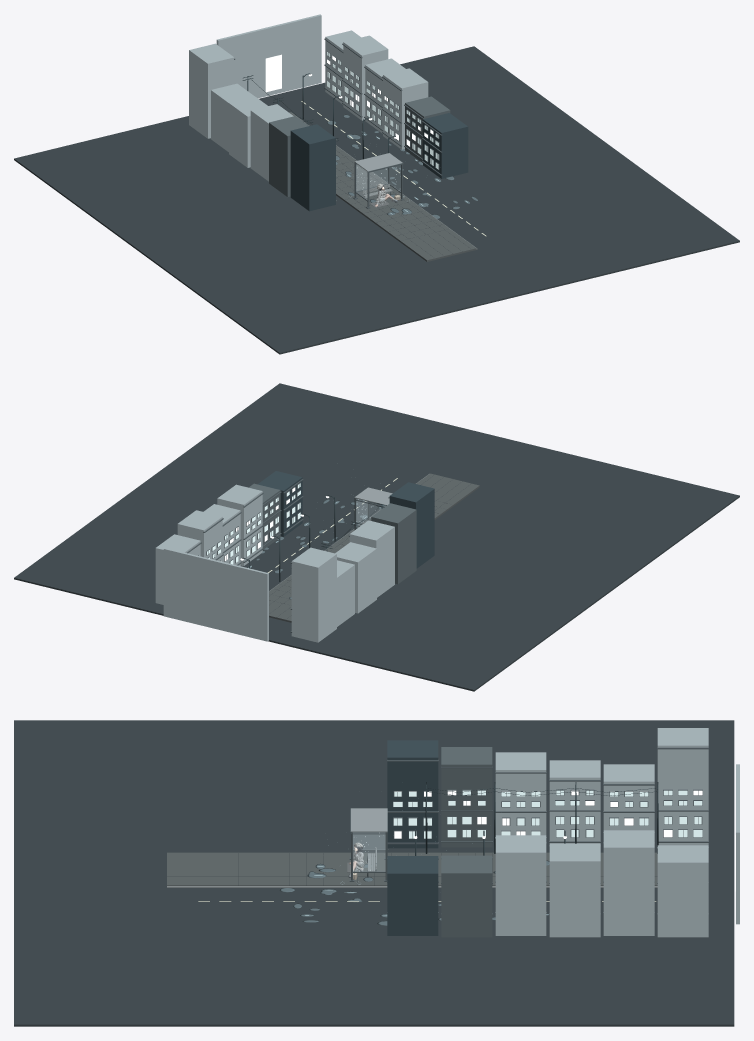
The picture shows the model from 3 angles, top to bottom: view 1: azimuth 30°, elevation 25°; view 2: azimuth 150°, elevation 25°; view 3: azimuth 270°, elevation 25°; orthographic projection. The views are drawn at different scales.
Parts seen in each view (by area): view 1: ground floor / asphalt, receding street facades / back building, receding street facades / shadow building, vanishing light across street / back building, sidewalk / concrete, receding street facades / silver building, window bays / arcade glass, Window jambs / weathered zinc, standing water / wet sheen, facade lintels / weathered zinc, distant doorway / far light, shelter side glazing / rain glass; view 2: ground floor / asphalt, receding street facades / back building, vanishing light across street / back building, receding street facades / shadow building, receding street facades / silver building, sidewalk / concrete, window bays / arcade glass, Window jambs / weathered zinc, facade lintels / weathered zinc; view 3: ground floor / asphalt, receding street facades / back building, receding street facades / shadow building, receding street facades / silver building, sidewalk / concrete, window bays / arcade glass, Window jambs / weathered zinc, facade lintels / weathered zinc, shelter side glazing / rain glass, folded shelter canopy / awning, standing water / wet sheen, window bays / far light (+2 smaller).
Boxes of the visible parts, x1,y1,x2,y2 form: ground floor / asphalt: (14, 46, 739, 354); receding street facades / back building: (189, 30, 428, 181); receding street facades / shadow building: (290, 113, 468, 211); vanishing light across street / back building: (216, 14, 321, 98); sidewalk / concrete: (289, 112, 476, 261); receding street facades / silver building: (269, 96, 450, 196); window bays / arcade glass: (327, 52, 438, 169); Window jambs / weathered zinc: (327, 51, 439, 169); standing water / wet sheen: (326, 114, 477, 218); facade lintels / weathered zinc: (234, 38, 442, 201); distant doorway / far light: (265, 54, 281, 92); shelter side glazing / rain glass: (356, 165, 400, 199); ground floor / asphalt: (14, 383, 739, 691); receding street facades / back building: (155, 484, 394, 642); vanishing light across street / back building: (163, 548, 268, 641); receding street facades / shadow building: (257, 471, 434, 568); receding street facades / silver building: (249, 483, 416, 584); sidewalk / concrete: (269, 473, 479, 622); window bays / arcade glass: (199, 483, 300, 564); Window jambs / weathered zinc: (198, 482, 300, 563); facade lintels / weathered zinc: (187, 479, 389, 632); ground floor / asphalt: (14, 720, 734, 1026); receding street facades / back building: (495, 728, 708, 937); receding street facades / shadow building: (387, 740, 438, 935); receding street facades / silver building: (441, 747, 492, 937); sidewalk / concrete: (167, 852, 657, 885); window bays / arcade glass: (393, 790, 702, 838); Window jambs / weathered zinc: (393, 789, 702, 838); facade lintels / weathered zinc: (387, 747, 708, 915); shelter side glazing / rain glass: (353, 832, 385, 871); folded shelter canopy / awning: (351, 808, 387, 832); standing water / wet sheen: (279, 860, 549, 925); window bays / far light: (394, 790, 702, 838).
Size of the model in its own units: 40 by 6.36 by 40.31.
Materials: 26 (1 with a texture image).
